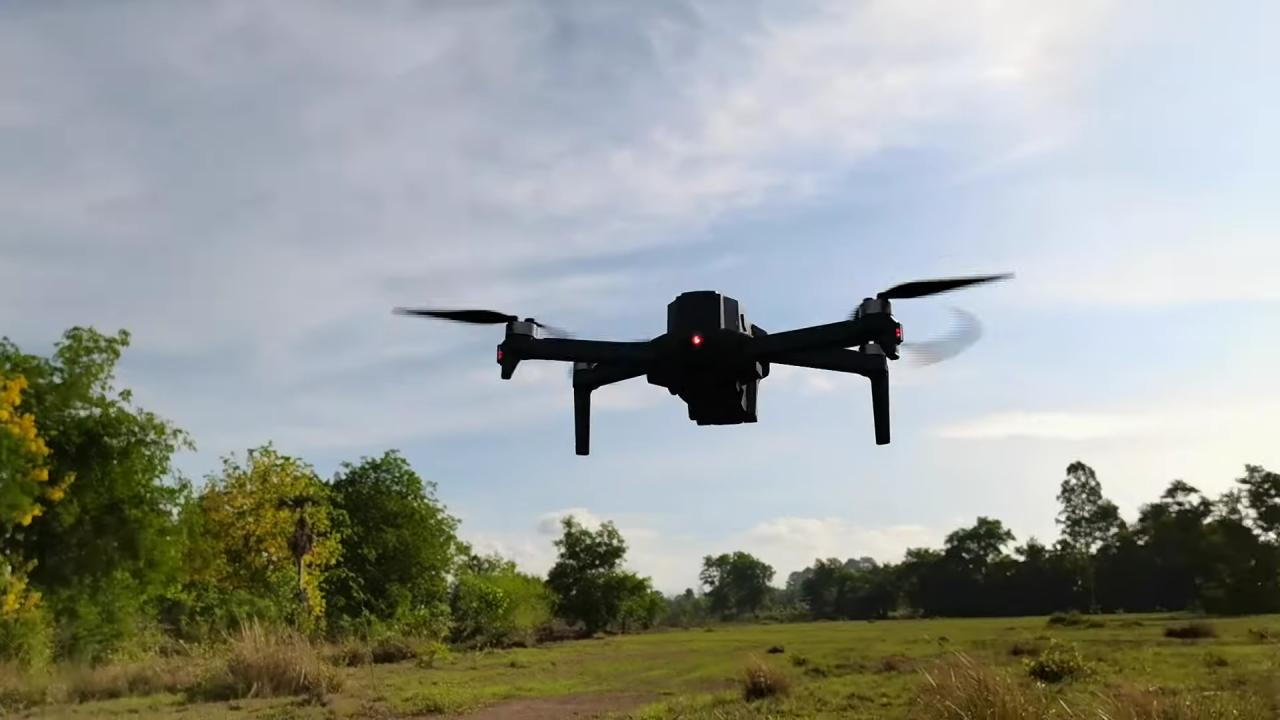Drone: (376, 261, 1044, 474)
